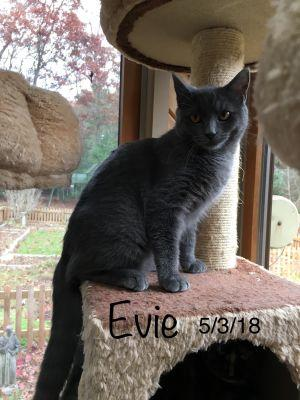rblue: (149, 37, 260, 163)
